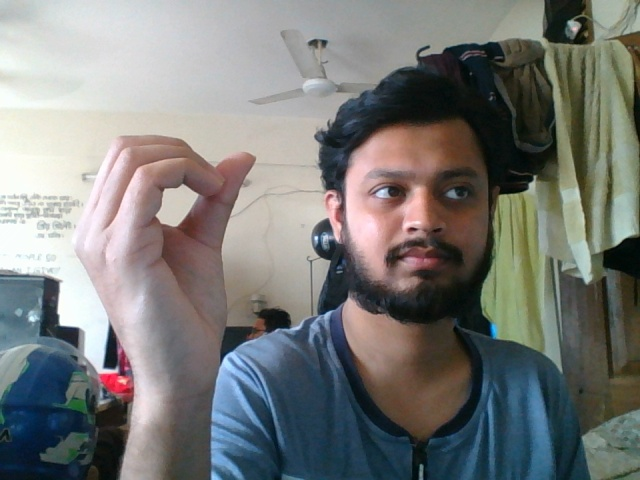ae: (72, 124, 270, 434)
